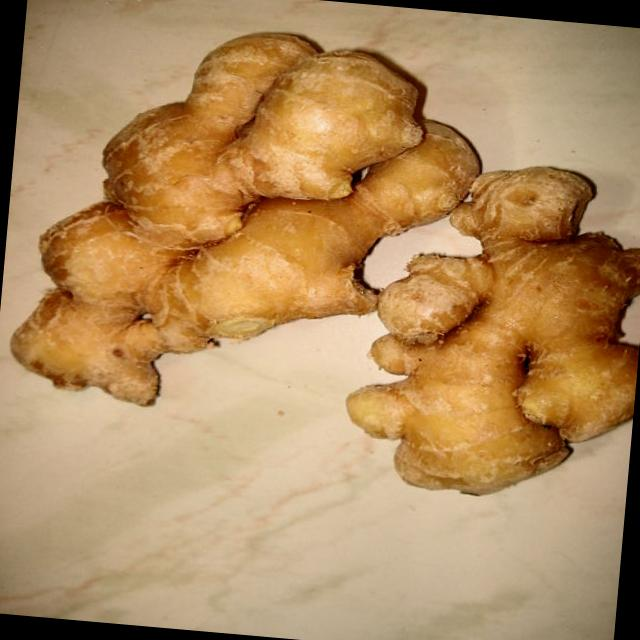ginger-root: (2, 6, 492, 438), (312, 130, 640, 527)
